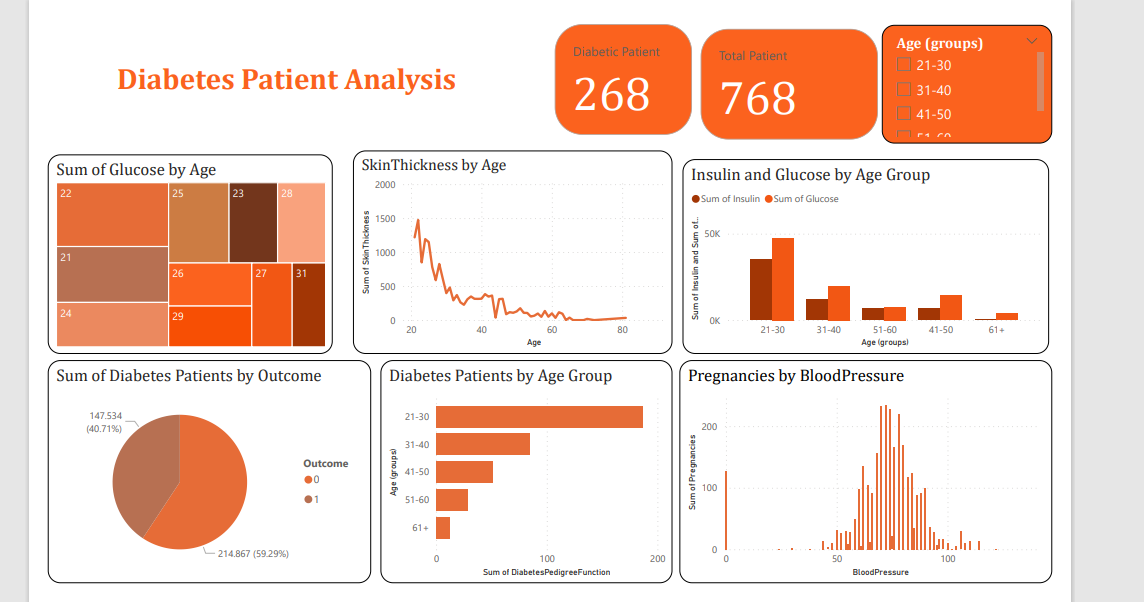

The dashboard page shown, as its layout file describes it:
{"tool":"powerbi","page":{"name":"Page 1","canvas":[1280,720],"ordinal":0},"visuals":[{"type":"lineChart","title":" SkinThickness by Age","fields":{"Y":["Sum(diabetes.SkinThickness)"],"Category":["diabetes.Age"]},"box":[388.8,168.9,407.1,259.2],"z":0},{"type":"pieChart","title":"Sum of Diabetes Patients  by Outcome","fields":{"Category":["diabetes.Outcome"],"Y":["Sum(diabetes.DiabetesPedigreeFunction)"]},"box":[0,436.3,411.5,283.5],"z":1000},{"type":"lineClusteredColumnComboChart","title":"Pregnancies by BloodPressure","fields":{"Category":["diabetes.BloodPressure"],"Y":["Sum(diabetes.Pregnancies)"]},"box":[805.2,436.3,474.8,283.5],"z":2000},{"type":"cardVisual","fields":{"Data":["CountNonNull(diabetes.Outcome)"]},"box":[826.6,8.6,236.2,151.2],"z":3000},{"type":"cardVisual","fields":{"Data":["Sum(diabetes.Outcome)"]},"box":[640.8,2.9,185.8,151.2],"z":4000},{"type":"treemap","fields":{"Group":["diabetes.Age"],"Values":["Sum(diabetes.Glucose)"]},"box":[0,174,363,254],"z":5000},{"type":"slicer","fields":{"Values":["diabetes.Age (groups)"]},"box":[1062.7,8.6,217.4,151.2],"z":6000},{"type":"barChart","title":" Diabetes Patients by Age Group","fields":{"Category":["diabetes.Age (groups)"],"Y":["Sum(diabetes.DiabetesPedigreeFunction)"]},"box":[423.9,436.3,371.6,283.5],"z":7000},{"type":"clusteredColumnChart","title":"Insulin and Glucose by Age Group","fields":{"Category":["diabetes.Age (groups)"],"Y":["Sum(diabetes.Insulin)","Sum(diabetes.Glucose)"]},"box":[808.8,180,467,247.6],"z":8000},{"type":"textbox","box":[0,50.4,609.1,56.2],"z":9000}]}

Visuals, with their boxes in screenshot pixels (x1, y1, x2, y2):
" SkinThickness by Age" lineChart: crop(348, 143, 672, 349)
"Sum of Diabetes Patients  by Outcome" pieChart: crop(39, 356, 366, 581)
"Pregnancies by BloodPressure" lineClusteredColumnComboChart: crop(679, 356, 1056, 581)
cardVisual - CountNonNull(diabetes.Outcome): crop(696, 16, 884, 136)
cardVisual - Sum(diabetes.Outcome): crop(548, 11, 696, 131)
treemap - diabetes.Age x Sum(diabetes.Glucose): crop(39, 147, 327, 349)
slicer - diabetes.Age (groups): crop(884, 16, 1056, 136)
" Diabetes Patients by Age Group" barChart: crop(376, 356, 671, 581)
"Insulin and Glucose by Age Group" clusteredColumnChart: crop(682, 152, 1053, 349)
textbox: crop(39, 49, 523, 94)
